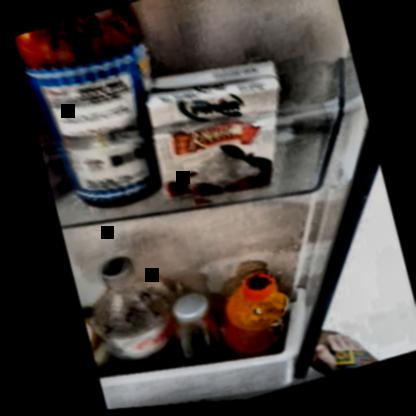heavy_cream: (137, 62, 285, 216)
